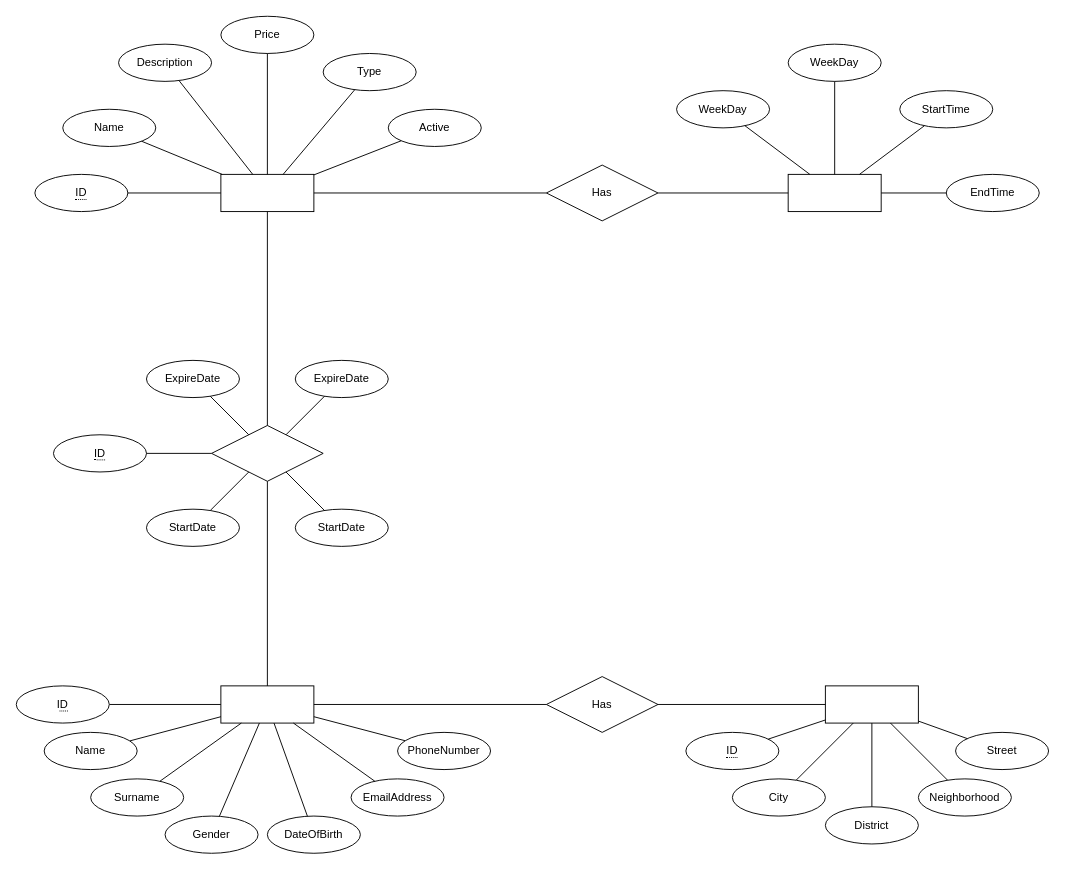
Image size: 1065x870. Some labels were removed from this diagram. Each missing label, with the box of its shape:
Address: (824, 685, 918, 723)
Plan: (220, 173, 314, 212)
Subscribes: (211, 425, 323, 481)
TimeTable: (787, 173, 881, 212)
User: (220, 685, 314, 723)
